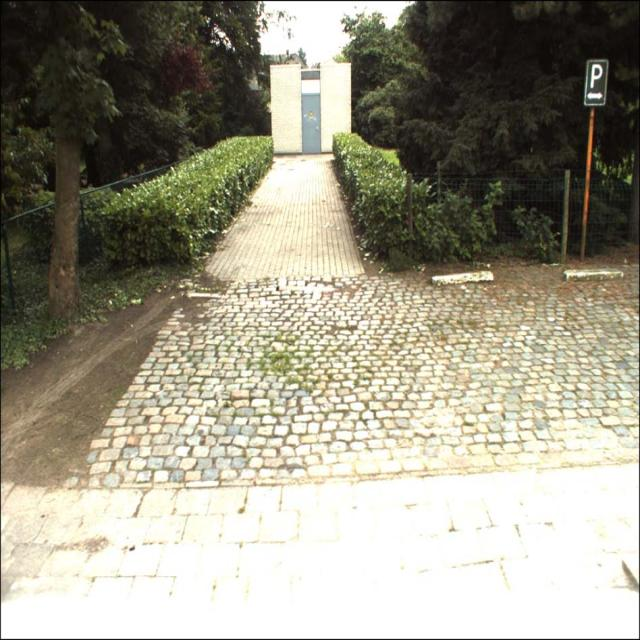park: (584, 60, 608, 106)
